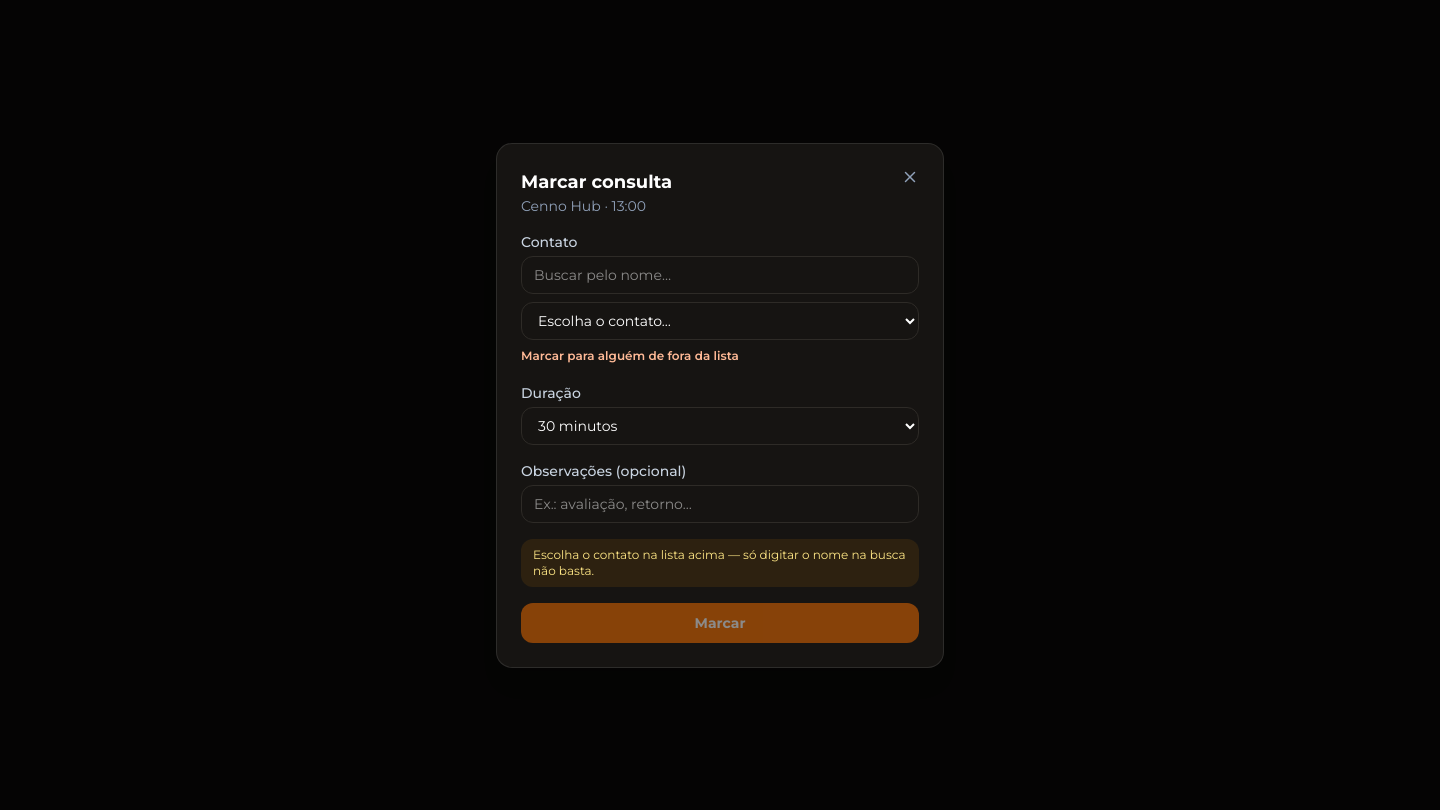
MarcarConsultaModal — marcar para quem não está em Contatos › quando a busca não acha ninguém, a tela aponta a saída em vez de travar
Type "Indicação do Marcos" into the field with placeholder "Buscar pelo nome…" at (720, 274), box [521,256,919,294]
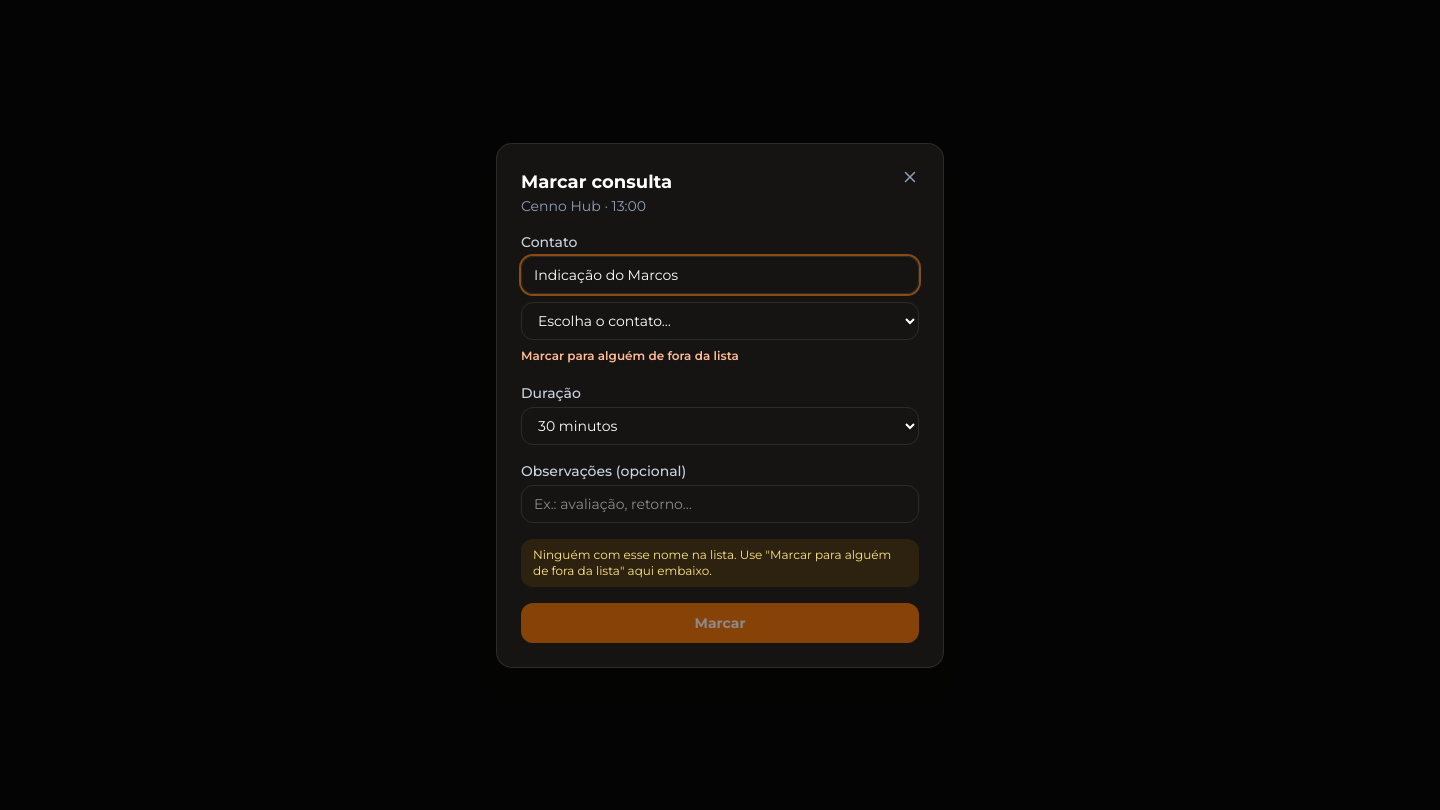
Expected: the message shows "de fora da lista", [533,546,891,578]
